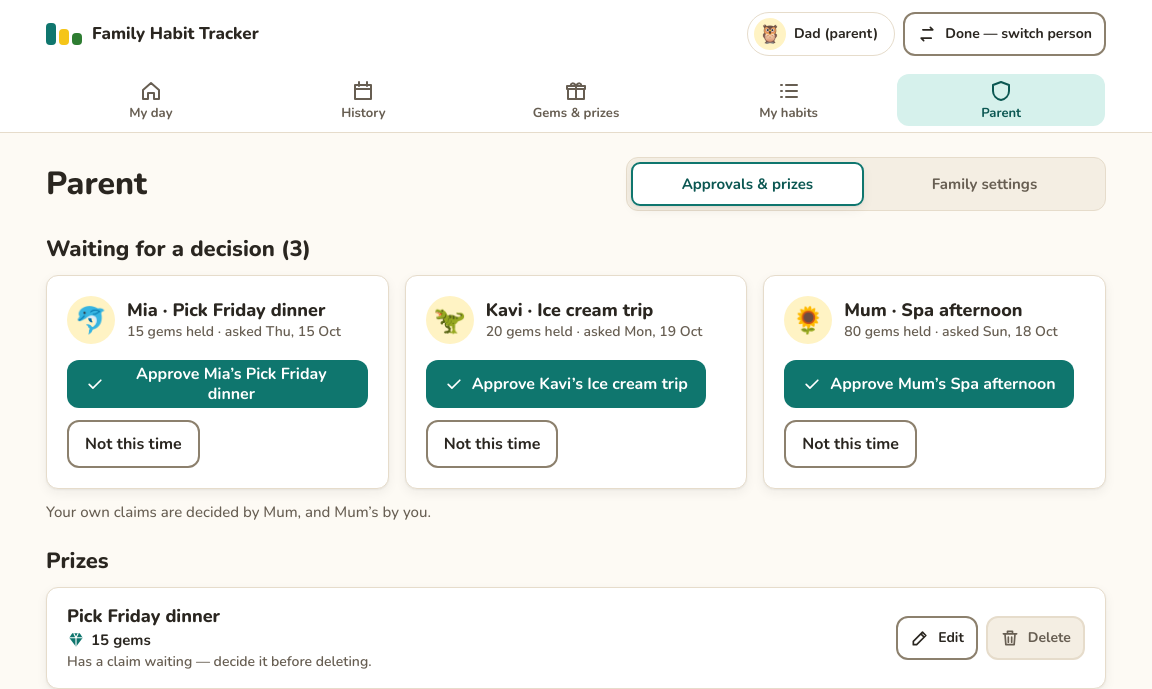
it: REQ-026 parents approve or decline claims › approve and "Not this time" send the decision and take the claim off the list
Click the button "Approve Mia’s Pick Friday dinner" at (217, 384), box [67,360,368,408]
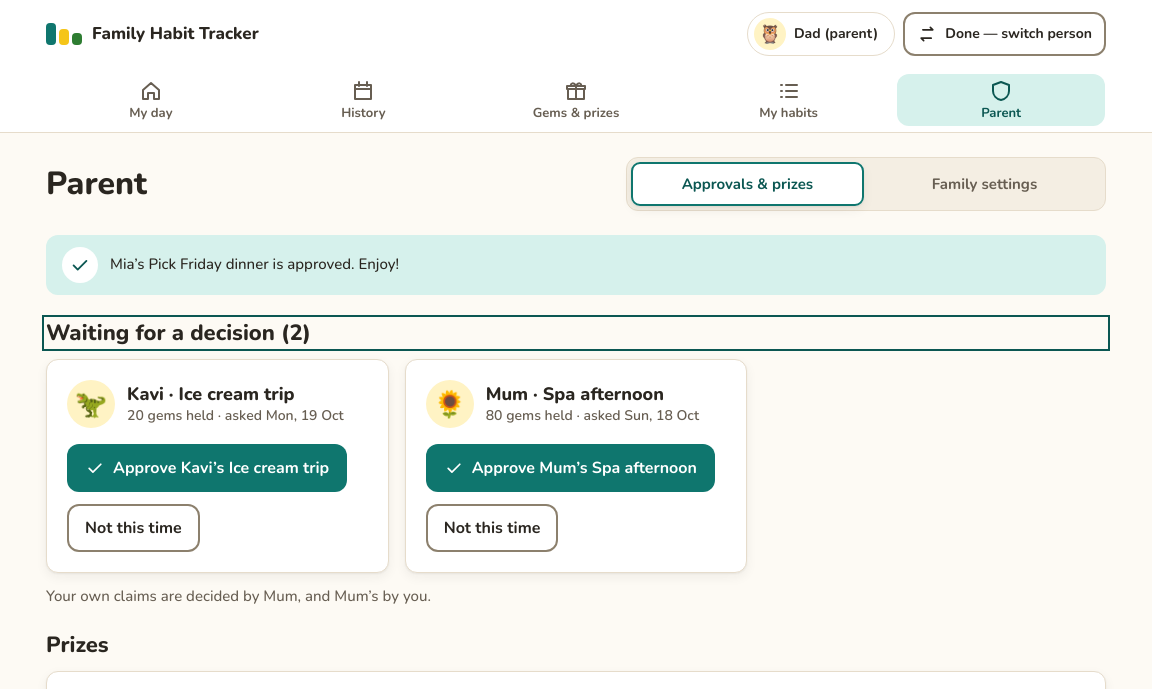
Expected: the text "Mia’s Pick Friday dinner is approved. Enjoy!" is shown, [110,254,399,274]
Click the button named "Not this time for Kavi’s Ice cream trip" at (133, 528), box [67,504,200,552]
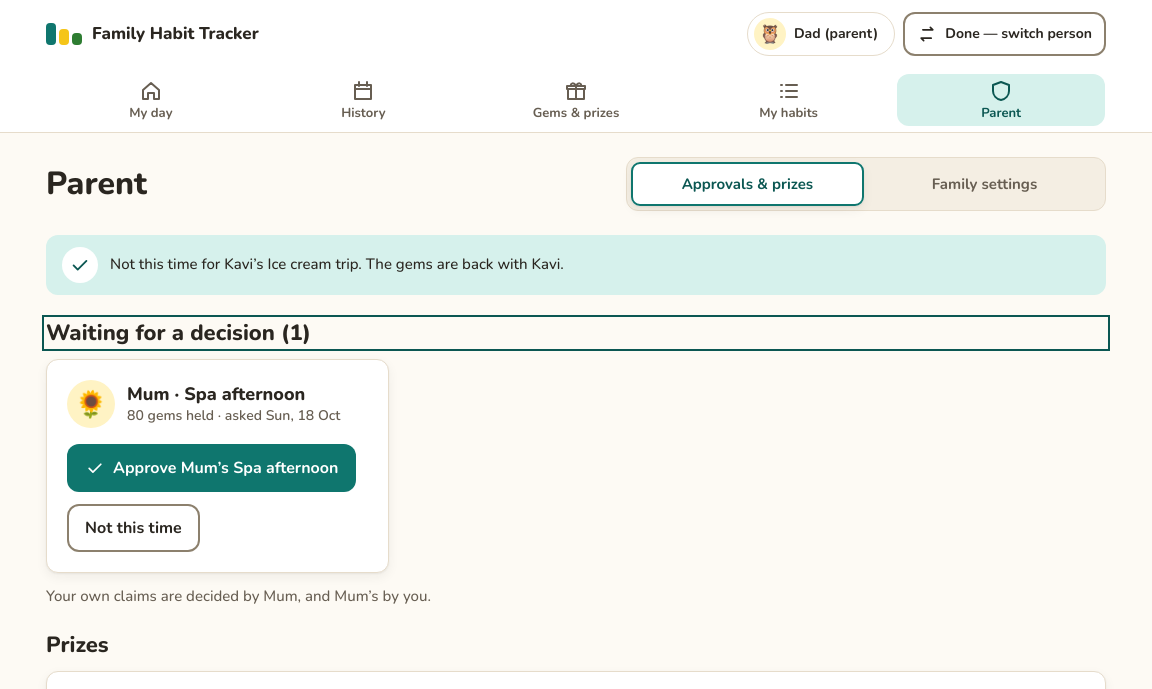
Expected: the button "Approve Mum’s Spa afternoon" is enabled, [67,444,356,492]
Expected: the text "Not this time for Kavi’s Ice cream trip. The gems are back with Kavi." is shown, [110,254,564,274]
